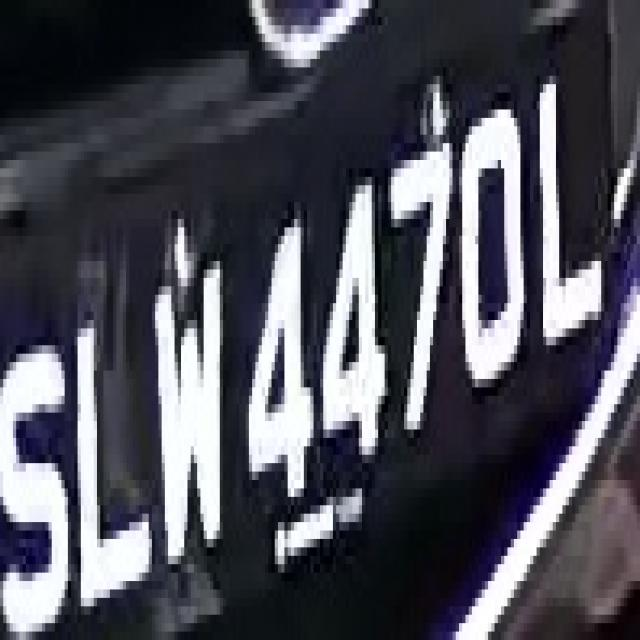0: (443, 93, 536, 404)
4: (242, 185, 324, 514), (317, 160, 394, 505)
7: (381, 126, 459, 472)
L: (65, 286, 162, 615), (530, 42, 614, 362)
W: (145, 219, 233, 606)
